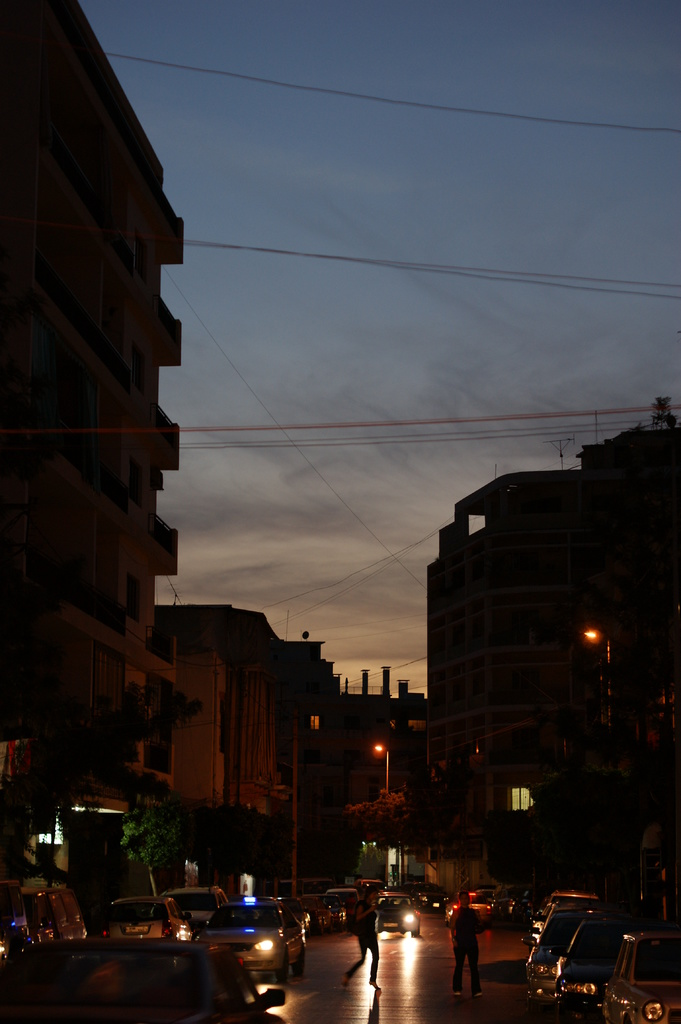Car: (0, 874, 680, 1023), (442, 862, 680, 1019), (480, 858, 680, 1023), (0, 936, 291, 1023), (300, 870, 506, 949), (195, 895, 323, 991), (0, 876, 88, 981), (92, 889, 190, 960), (158, 879, 235, 931)
